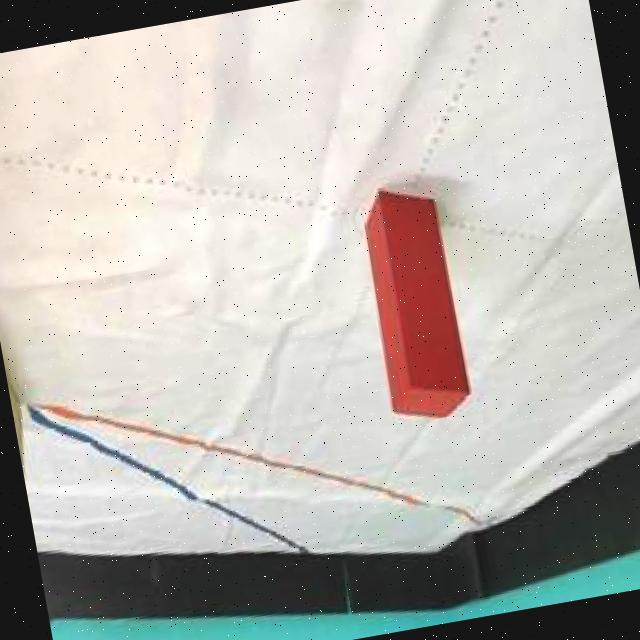redbox: (356, 178, 474, 426)
